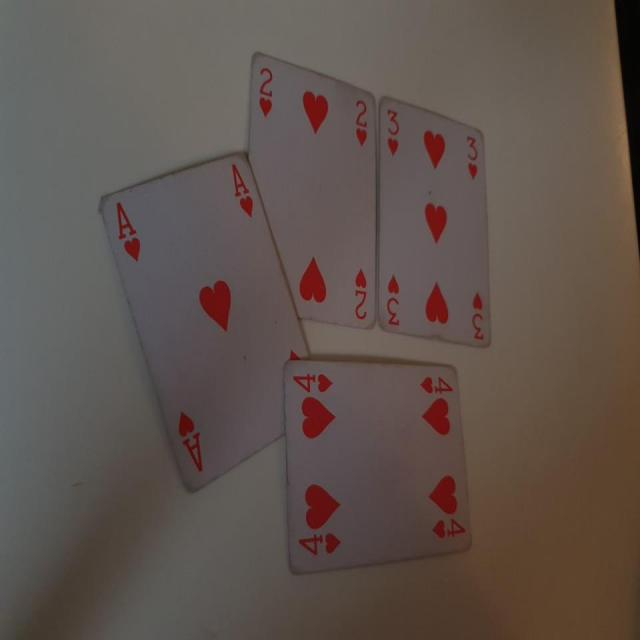2 Hearts: (243, 53, 384, 338)
3 Hearts: (373, 94, 502, 355)
4 Hearts: (275, 348, 478, 580)
A Hearts: (90, 148, 328, 505)
